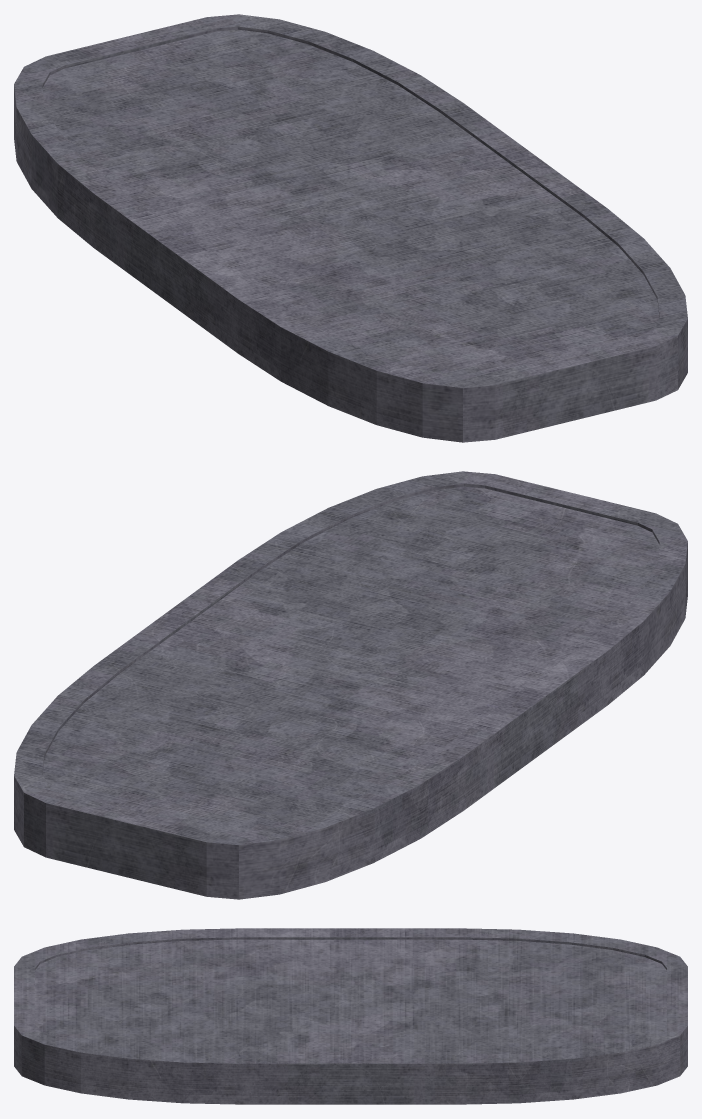
The model's file is small metal bar.fbx.
The picture shows the model from 3 angles, top to bottom: view 1: azimuth 30°, elevation 25°; view 2: azimuth 150°, elevation 25°; view 3: azimuth 270°, elevation 25°; orthographic projection. The views are drawn at different scales.
Parts seen in each view (by area): view 1: small bar; view 2: small bar; view 3: small bar.
Boxes of the visible parts, x1,y1,x2,y2 form: small bar: [14, 14, 687, 442]; small bar: [14, 471, 687, 899]; small bar: [14, 928, 687, 1104].
Size of the model in its own units: 7.3 by 1.03 by 15.35.
1 material, 1 textured.
